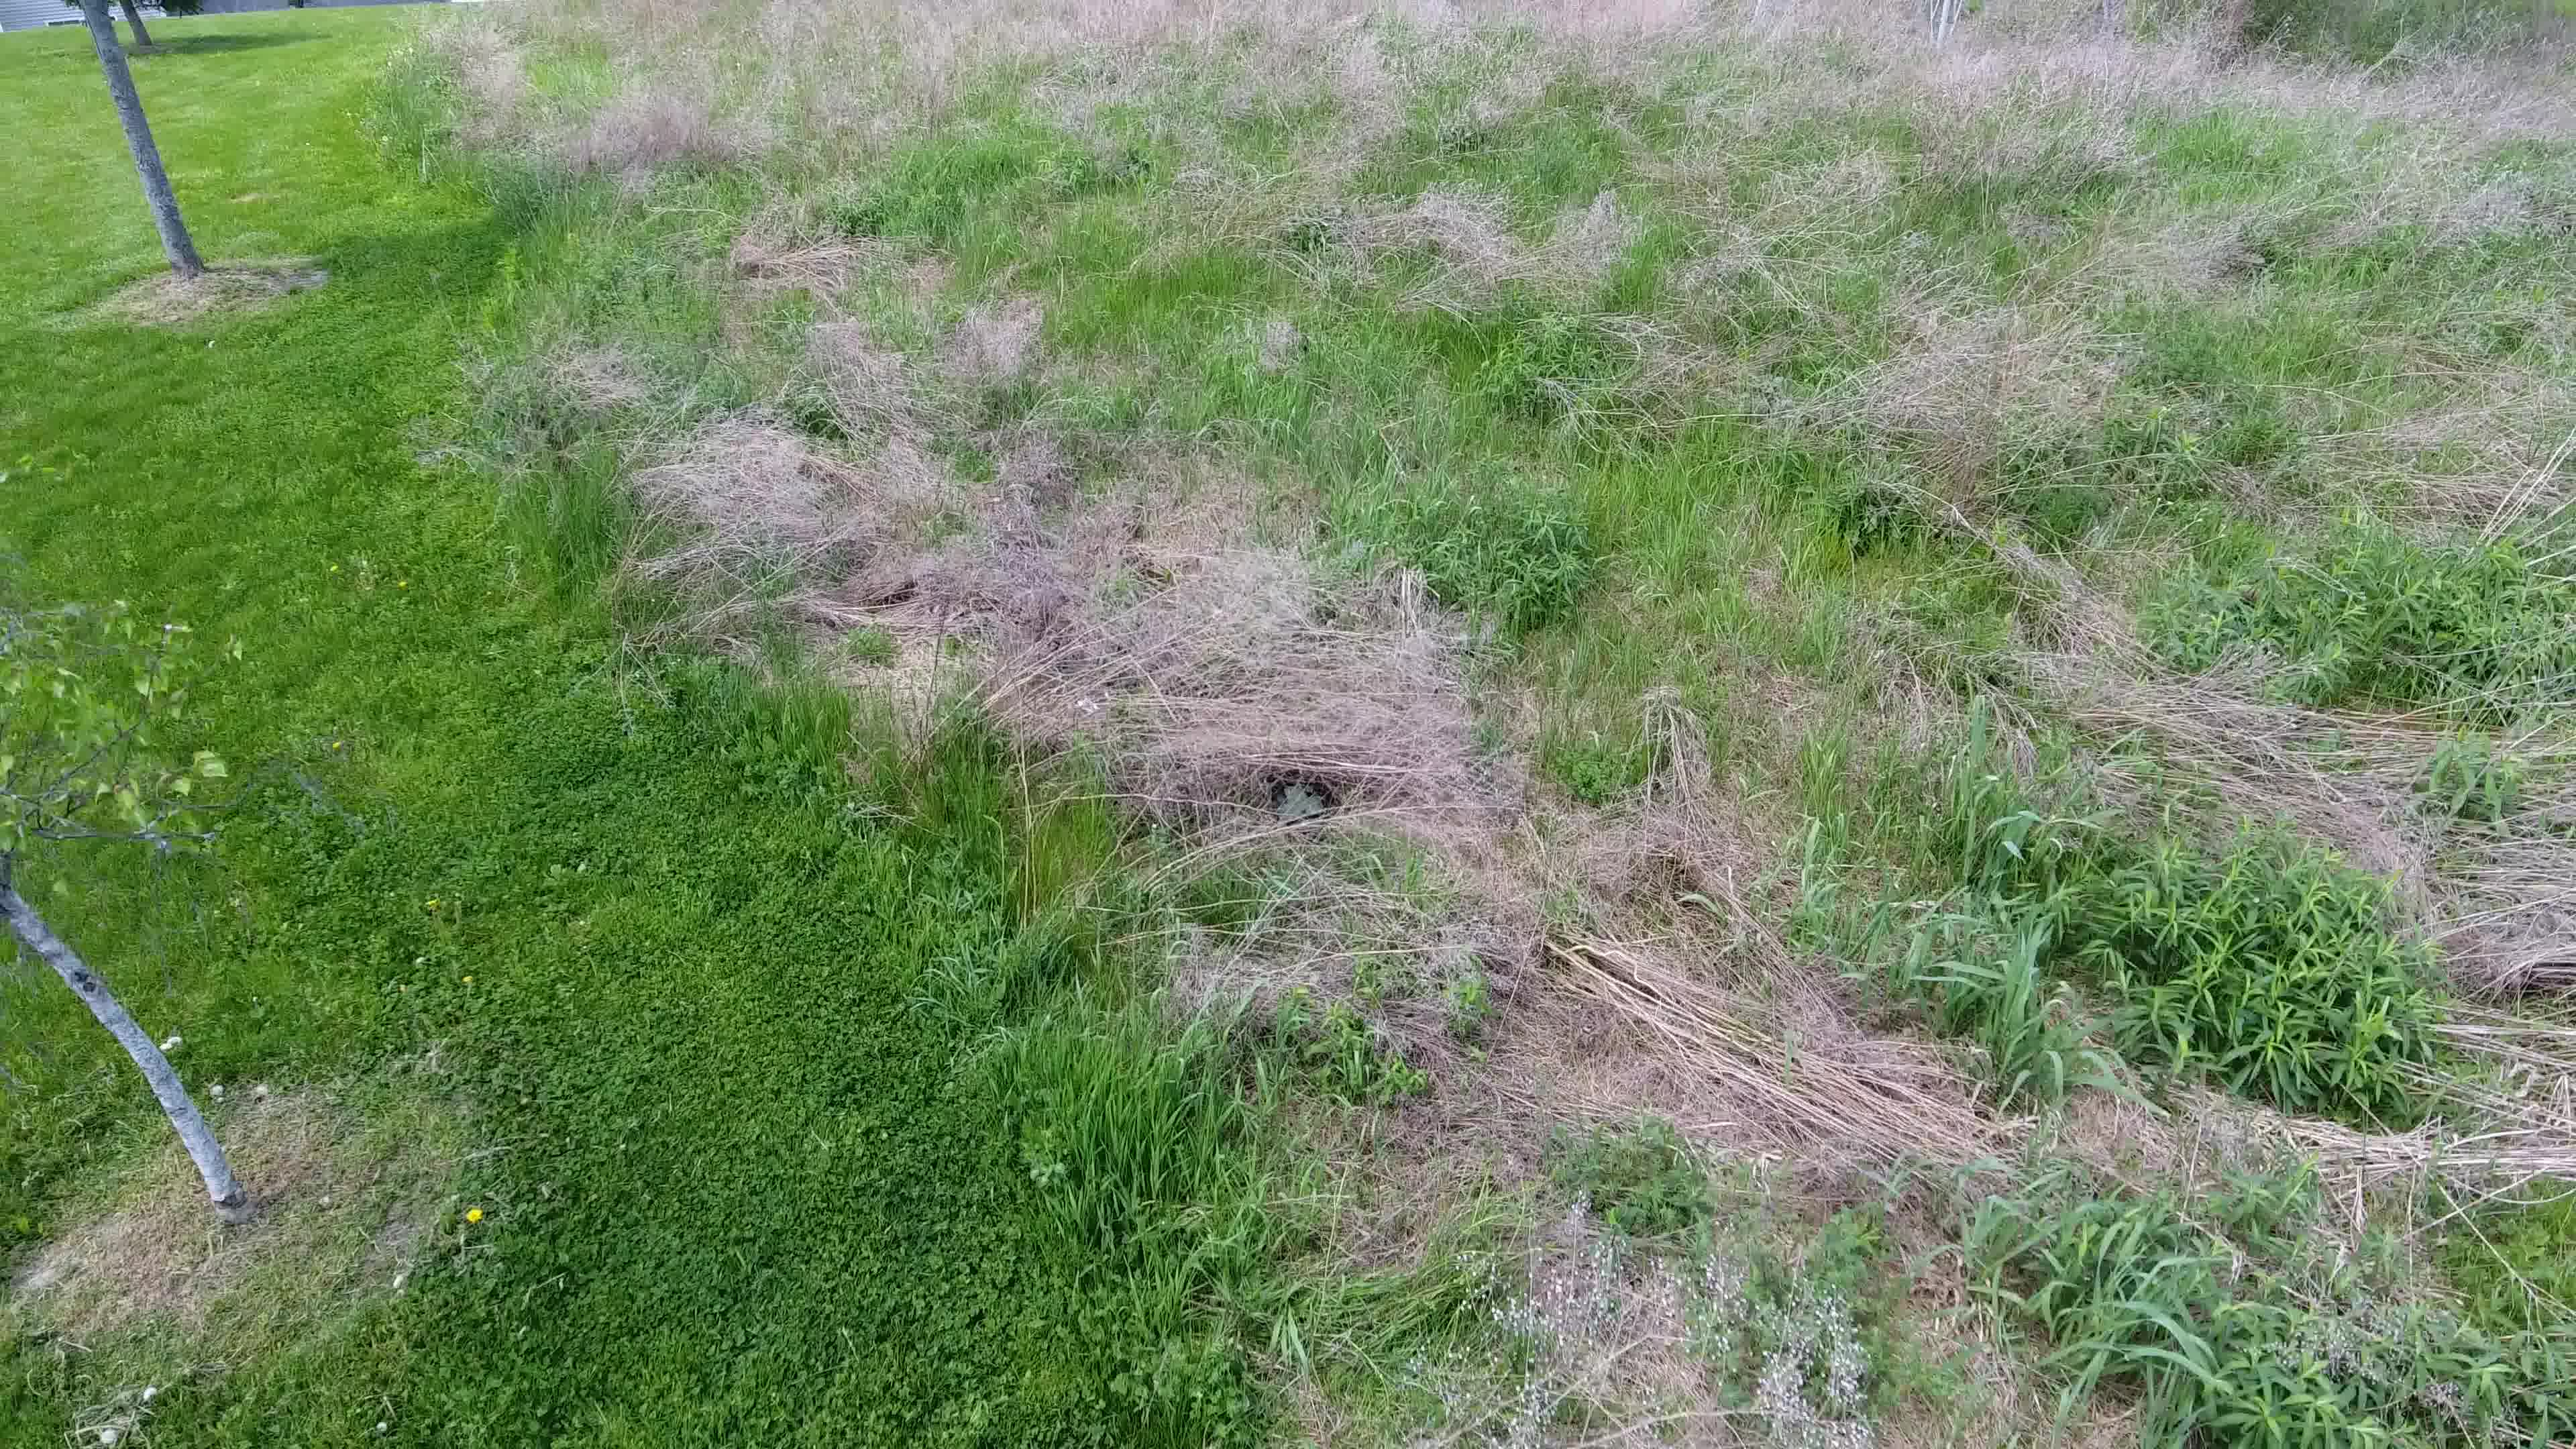transporter9: (1269, 773, 1332, 826)
